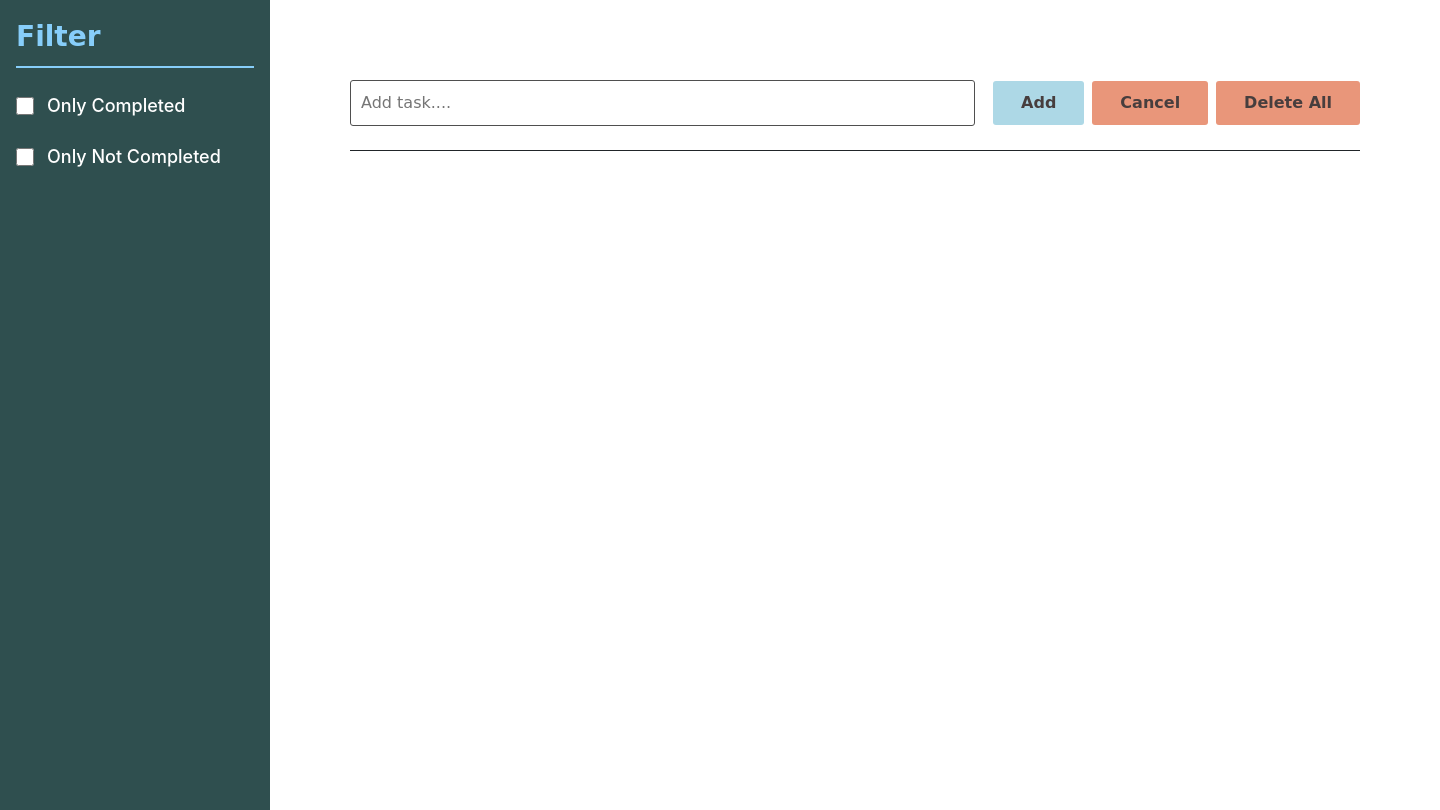
Scenario: Testing Main Page ToDo › Logic Work Btn Add
Type "test" into the field.
click(663, 103); type("test")  # box [350,80,975,126]
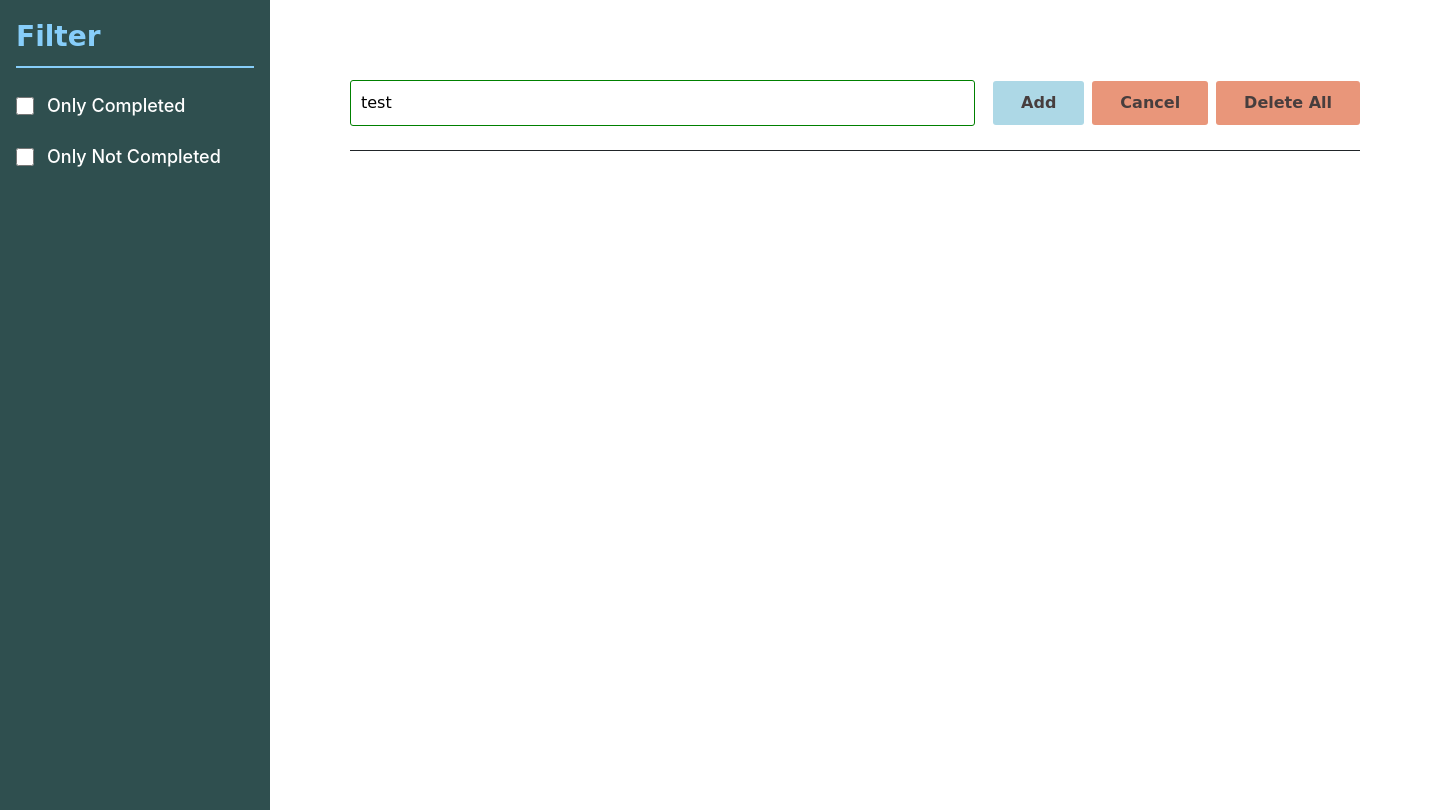
Click the text "Add".
click(1039, 103)  # box [993,81,1084,125]
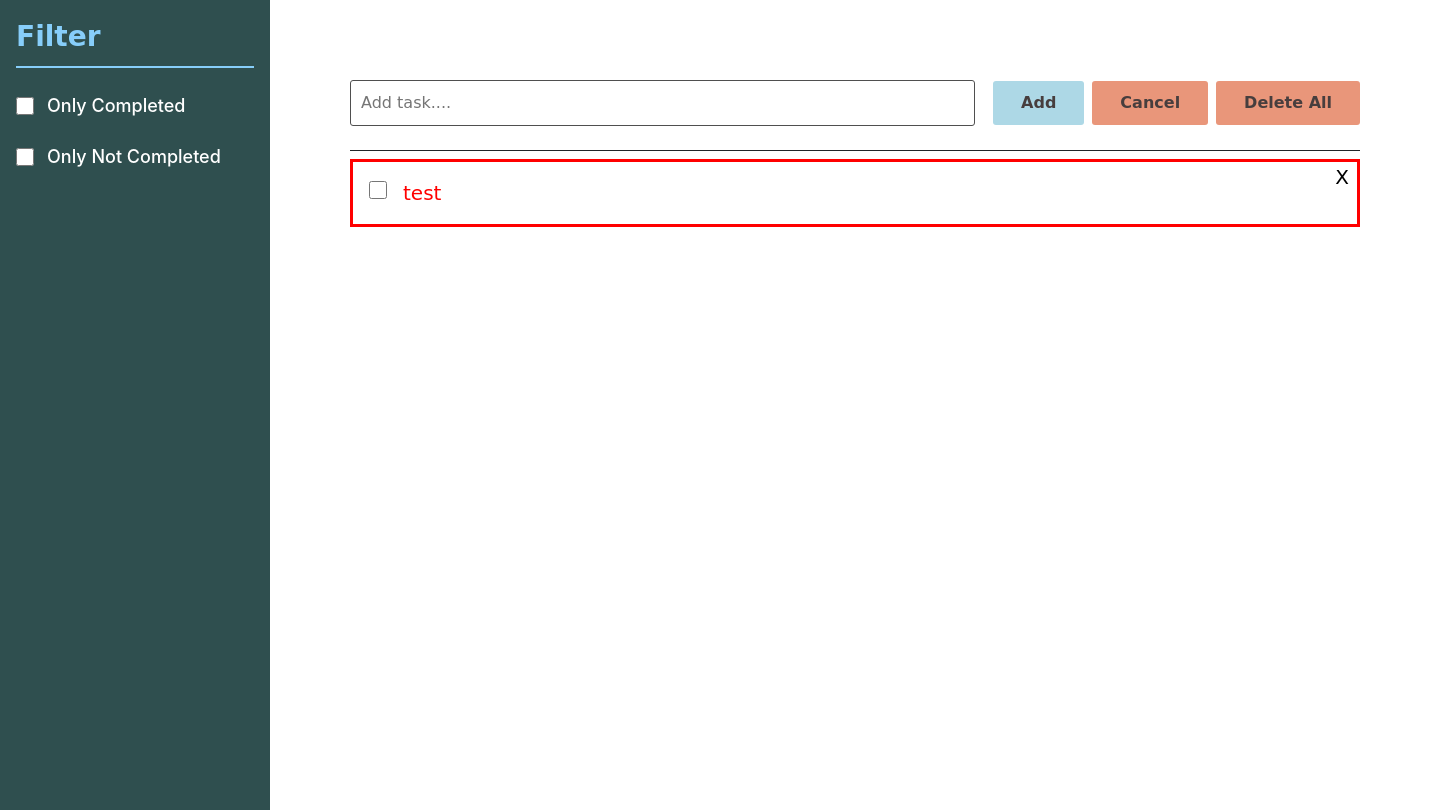
Now the field is empty, box [350,80,975,126]
Now the element with test id "task-element" is shown, box [350,159,1360,227]
Now the text "test" is shown, box [403,178,441,208]
